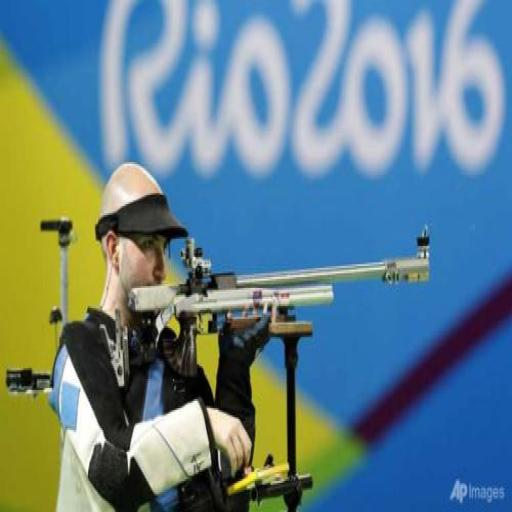shooting: (48, 160, 274, 510)
